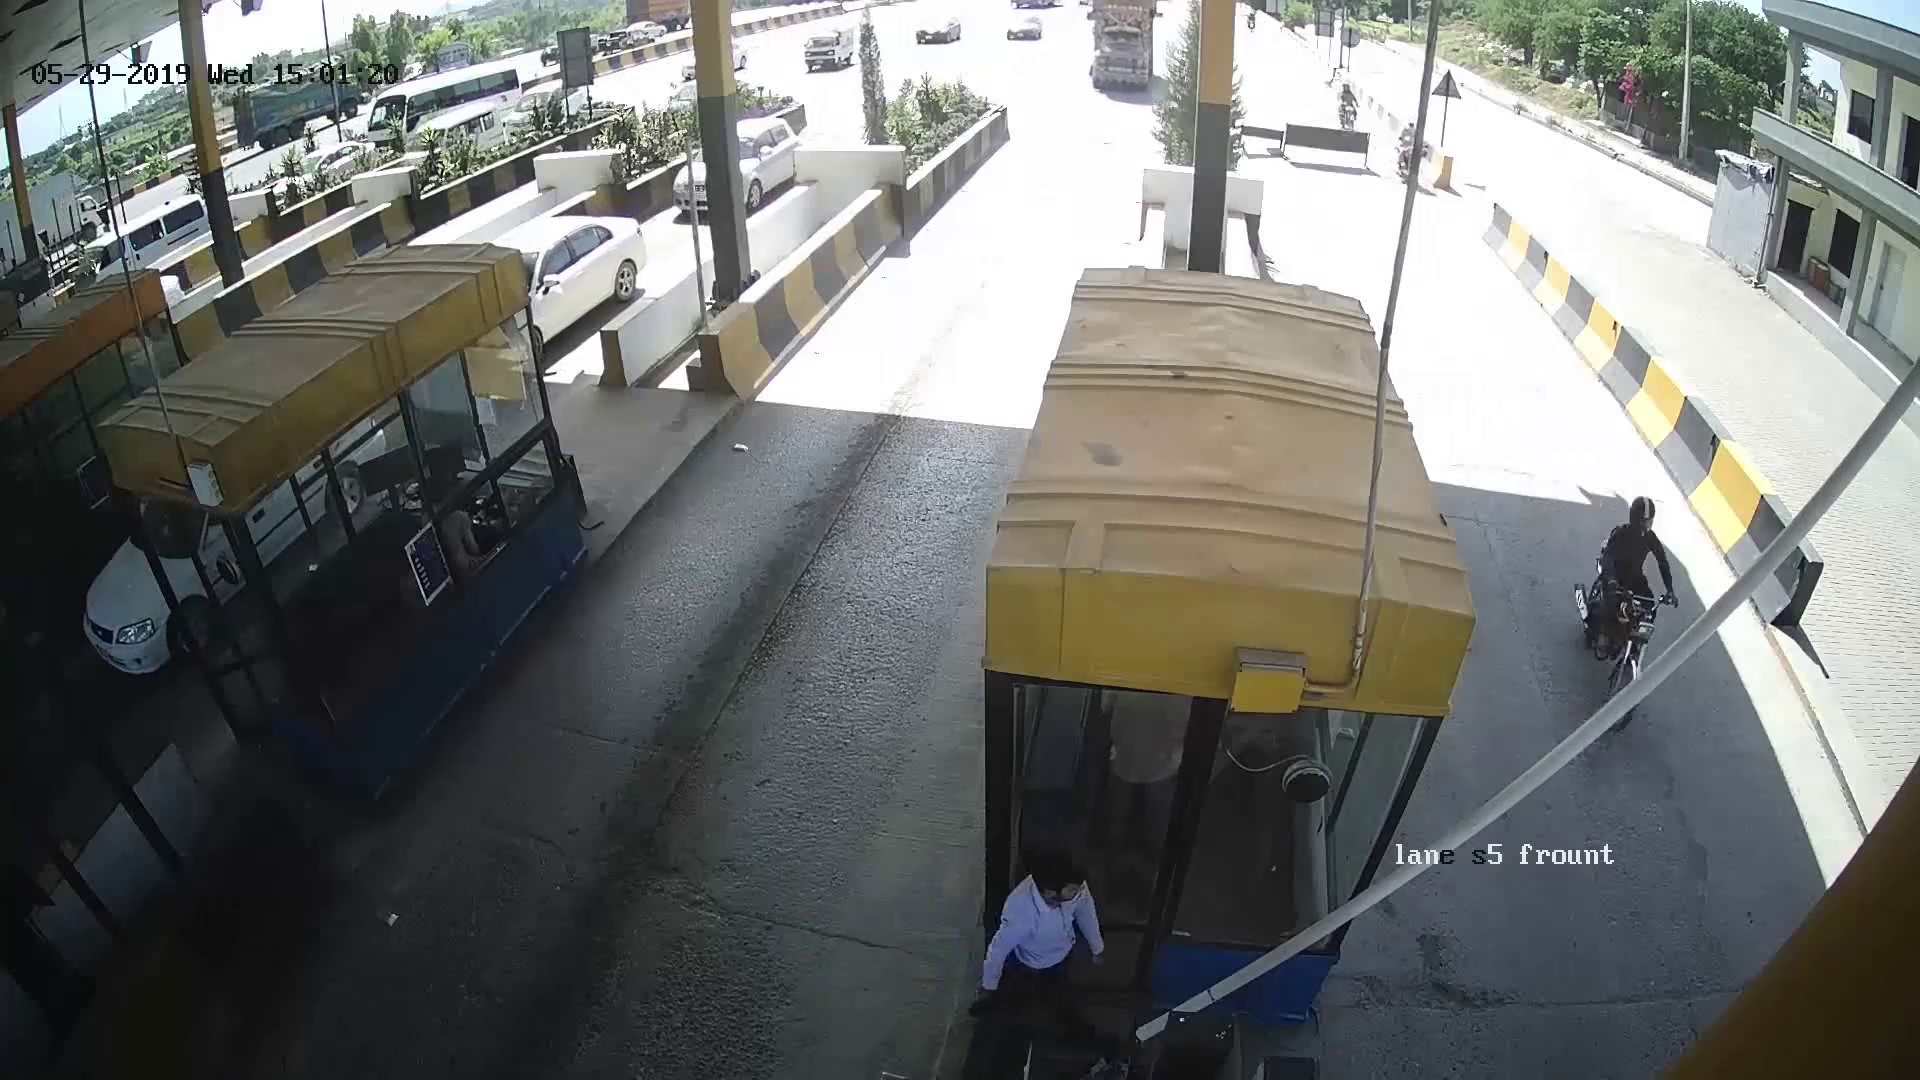truck: (1073, 18, 1180, 105)
